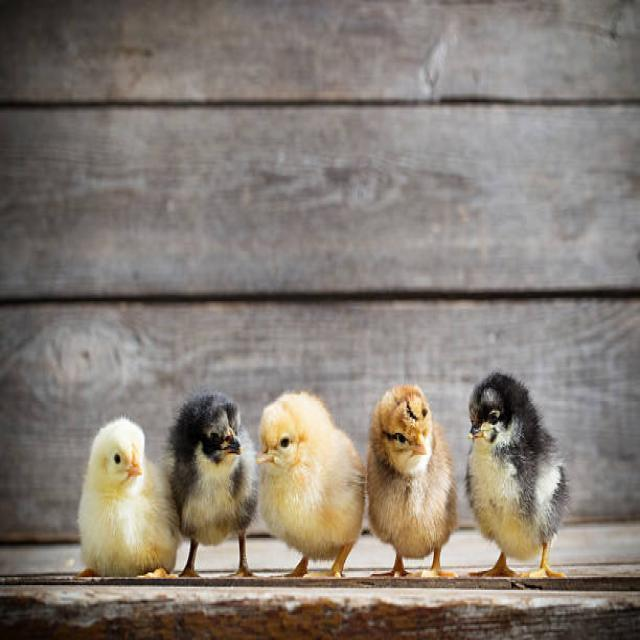poussin: (251, 383, 369, 588), (468, 369, 572, 579), (370, 381, 465, 588), (160, 390, 256, 581), (75, 416, 180, 580)
